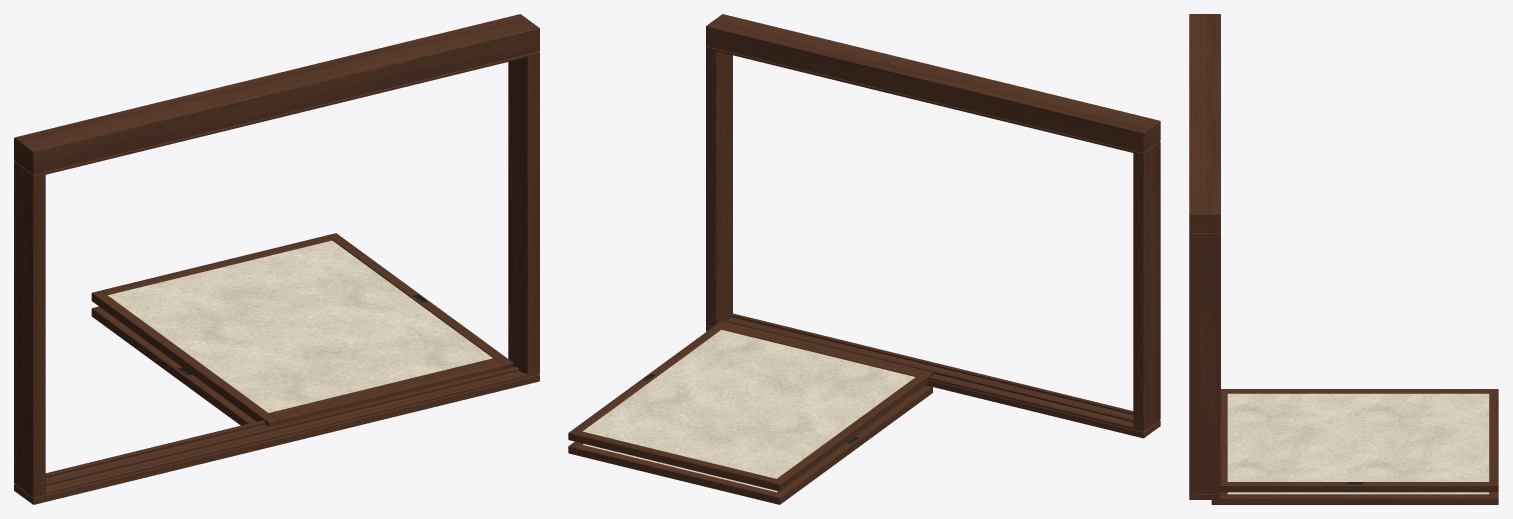
Rendered from 15B_Ventana_Izq.fbx.
The picture shows the model from 3 angles, left to right: view 1: azimuth 30°, elevation 25°; view 2: azimuth 150°, elevation 25°; view 3: azimuth 270°, elevation 25°; orthographic projection. The views are drawn at different scales.
Visible parts, largest first — view 1: SM_15B_Izq_Marco, SM_15B_Izq_Hoja_Trasera, SM_15B_Izq_Hoja_Delantera; view 2: SM_15B_Izq_Marco, SM_15B_Izq_Hoja_Trasera, SM_15B_Izq_Hoja_Delantera; view 3: SM_15B_Izq_Hoja_Trasera, SM_15B_Izq_Marco, SM_15B_Izq_Hoja_Delantera.
Boxes of the visible parts, left/top/right/bottom form: SM_15B_Izq_Marco: left=14, top=14, right=539, bottom=504; SM_15B_Izq_Hoja_Trasera: left=91, top=233, right=513, bottom=426; SM_15B_Izq_Hoja_Delantera: left=91, top=306, right=256, bottom=425; SM_15B_Izq_Marco: left=706, top=14, right=1160, bottom=438; SM_15B_Izq_Hoja_Trasera: left=568, top=321, right=932, bottom=491; SM_15B_Izq_Hoja_Delantera: left=568, top=385, right=932, bottom=504; SM_15B_Izq_Hoja_Trasera: left=1221, top=389, right=1498, bottom=492; SM_15B_Izq_Marco: left=1189, top=14, right=1220, bottom=499; SM_15B_Izq_Hoja_Delantera: left=1211, top=492, right=1498, bottom=504.
Size of the model in its own units: 1.8 by 1.24 by 1.18.
